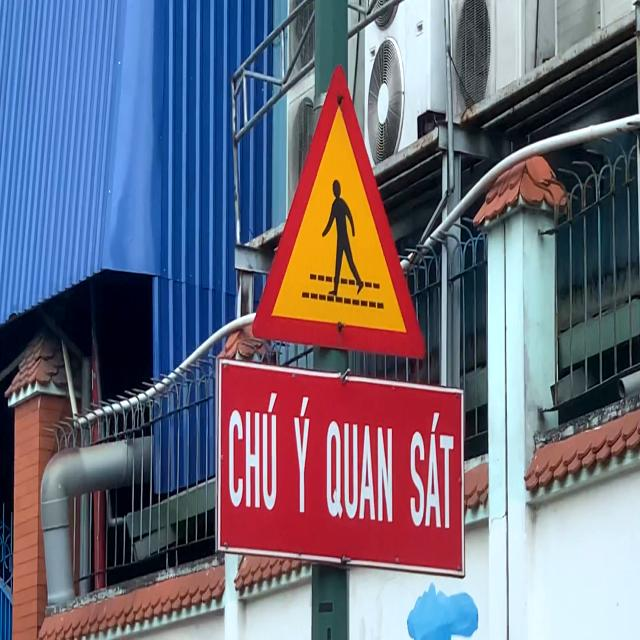W.224: (251, 62, 427, 362)
